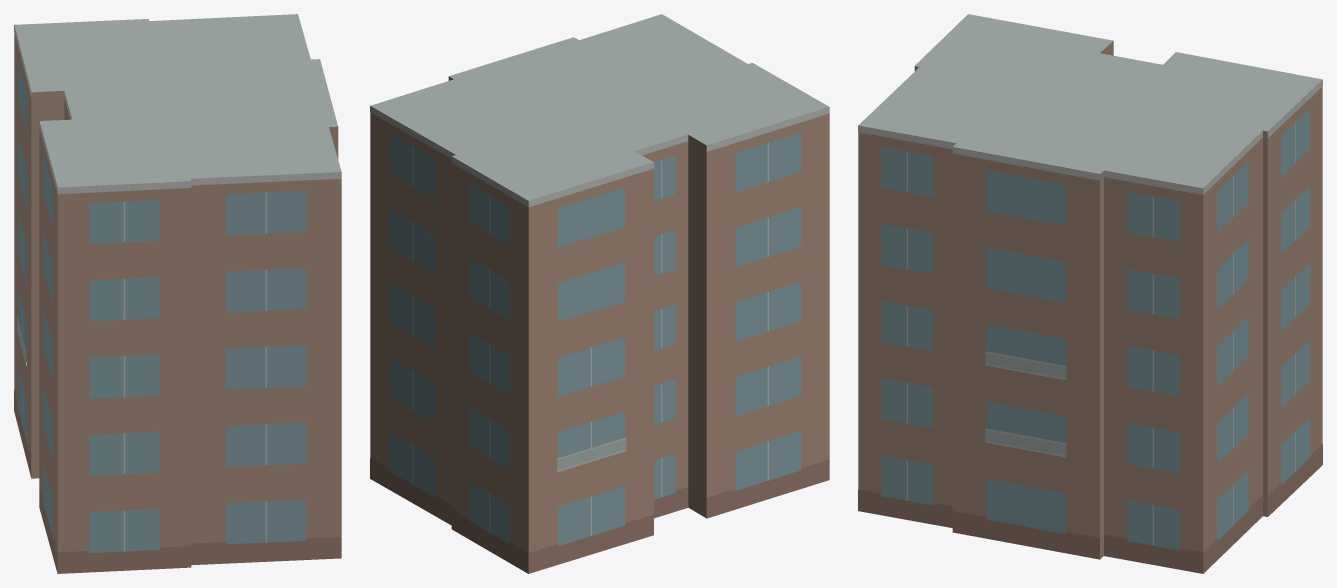
The model's file is survey-upis-33022869.glb.
3 views of the same model, side by side, from view 1: azimuth 30°, elevation 25°; view 2: azimuth 150°, elevation 25°; view 3: azimuth 270°, elevation 25° (orthographic). The views are drawn at different scales.
Parts seen in each view (by area): view 1: survey-upis-33022869.tmp; view 2: survey-upis-33022869.tmp; view 3: survey-upis-33022869.tmp.
Part boxes in pixels (x1,y1,x2,y2): survey-upis-33022869.tmp: (14, 14, 341, 573); survey-upis-33022869.tmp: (370, 14, 829, 573); survey-upis-33022869.tmp: (858, 14, 1322, 573).
Bounding box in the file's own units: 13.59 × 14 × 15.3.
